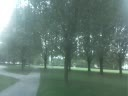window: (27, 46, 75, 67), (82, 20, 87, 53)
